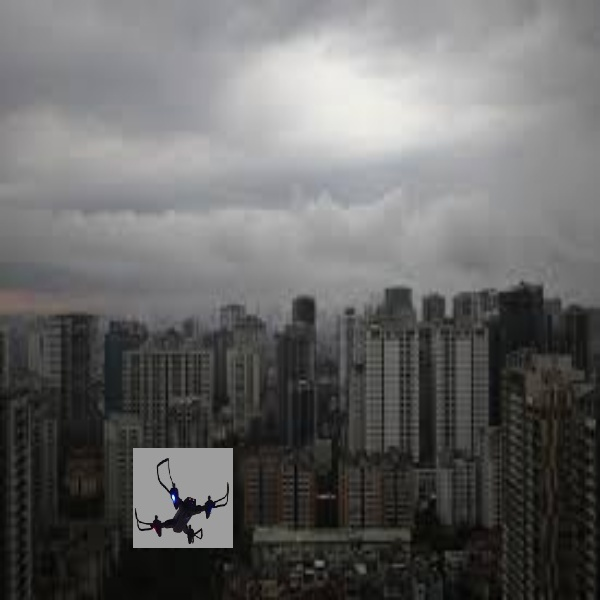drone: (126, 454, 233, 548)
